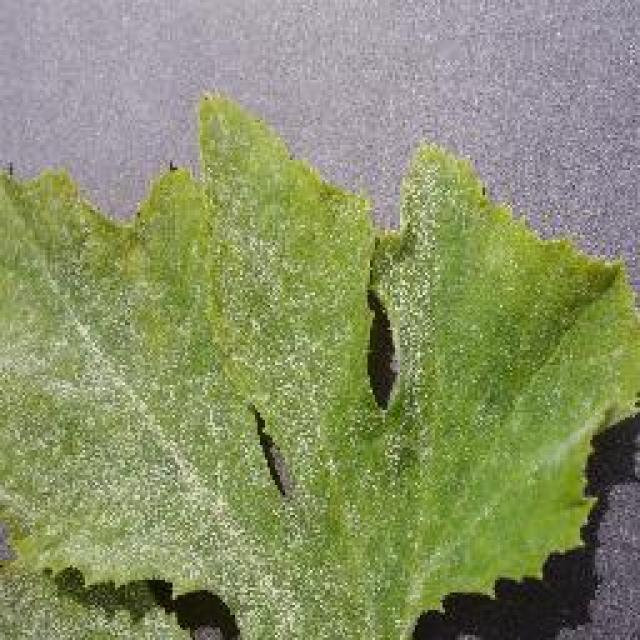Squ_Powdery_mildew: (32, 197, 460, 597)
